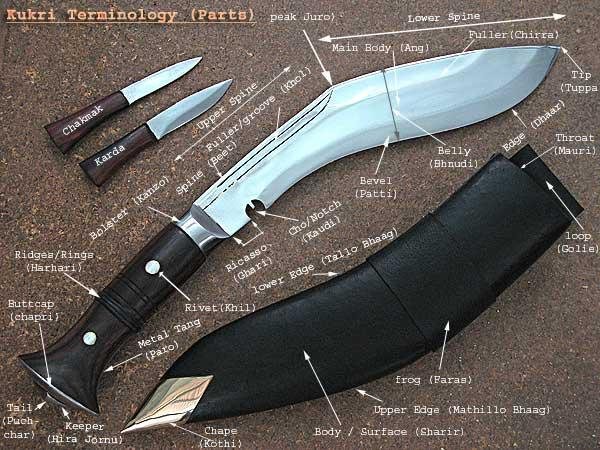faca: (80, 80, 231, 185), (44, 57, 201, 152)
facao: (21, 46, 559, 413)
